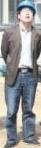boots: (4, 139, 17, 148), (0, 131, 8, 139)
hard-hat: (0, 0, 9, 14)
